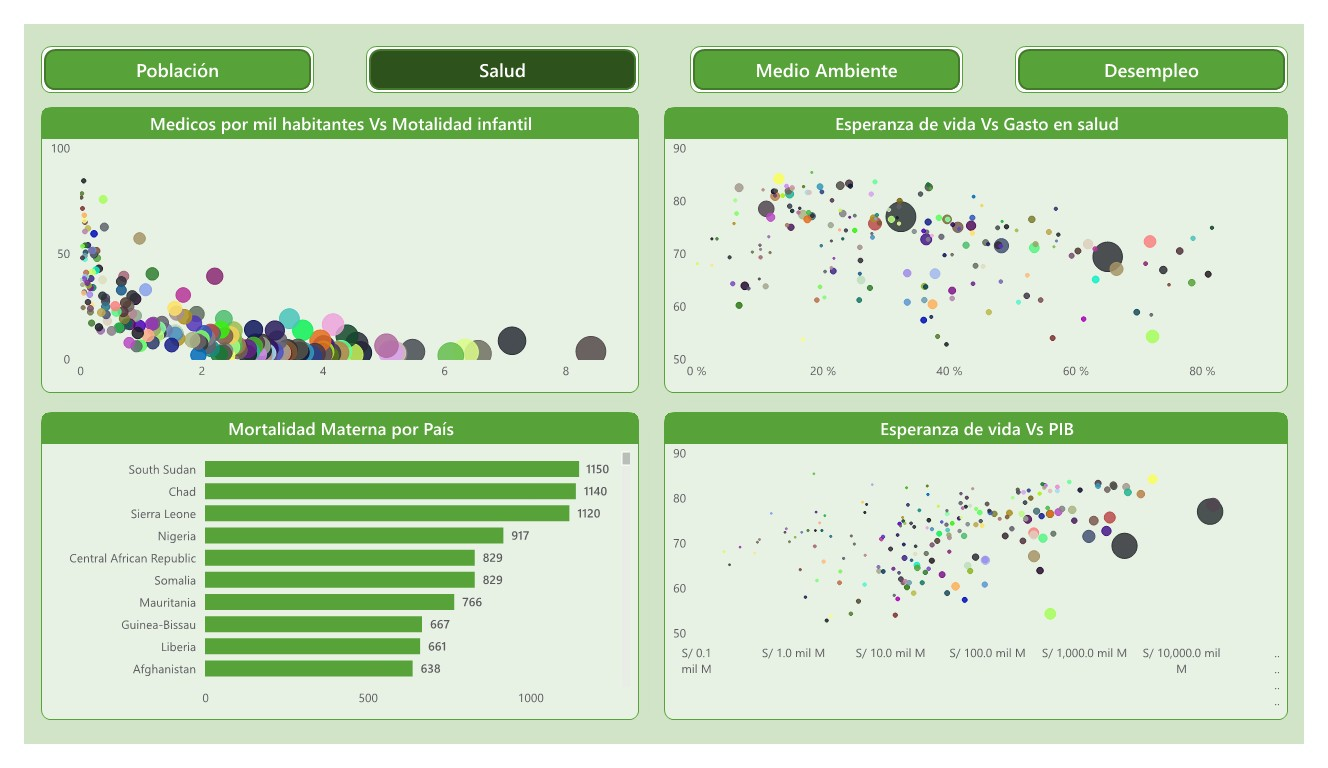

The page's visual inventory and layout, read from the dashboard file:
{"tool":"powerbi","page":{"name":"Salud","canvas":[1280,720],"ordinal":1},"visuals":[{"type":"scatterChart","title":"Esperanza de vida Vs PIB","fields":{"X":["world-data-2023.GDP ($)"],"Series":["world-data-2023.Country"],"Size":["metricas.Población"],"Y":["world-data-2023.Life expectancy"]},"box":[640,388,624,308],"z":1000},{"type":"shape","box":[17,22,273,47],"z":1001},{"type":"shape","box":[341.7,22,273,47],"z":1002},{"type":"shape","box":[991,22,273,47],"z":1003},{"type":"shape","box":[666.3,22,273,47],"z":1004},{"type":"scatterChart","title":"Esperanza de vida Vs Gasto en salud","fields":{"Series":["world-data-2023.Country"],"Size":["metricas.Población"],"Y":["world-data-2023.Life expectancy"],"X":["metricas.Gasto en Salud"]},"box":[640,83,624,286],"z":1006},{"type":"scatterChart","title":"Medicos por mil habitantes Vs Motalidad infantil ","fields":{"X":["metricas.Medicos por mil habitantes"],"Series":["world-data-2023.Country"],"Y":["metricas.Motalidad infantil"],"Size":["metricas.Medicos por mil habitantes"]},"box":[17,83,598,286],"z":1007},{"type":"barChart","title":"Mortalidad Materna por País","fields":{"Category":["world-data-2023.Country"],"Y":["metricas.Mortalidad Materna"]},"box":[17,388,598,308],"z":1008}]}

Visuals, with their boxes in screenshot pixels (x1, y1, x2, y2), scaled from the page's 1280x720 canvas onto the 1328x768 screenshot:
"Esperanza de vida Vs PIB" scatterChart: box=[664, 414, 1311, 742]
shape: box=[18, 23, 301, 74]
shape: box=[355, 23, 638, 74]
shape: box=[1028, 23, 1311, 74]
shape: box=[691, 23, 975, 74]
"Esperanza de vida Vs Gasto en salud" scatterChart: box=[664, 89, 1311, 394]
"Medicos por mil habitantes Vs Motalidad infantil " scatterChart: box=[18, 89, 638, 394]
"Mortalidad Materna por País" barChart: box=[18, 414, 638, 742]
